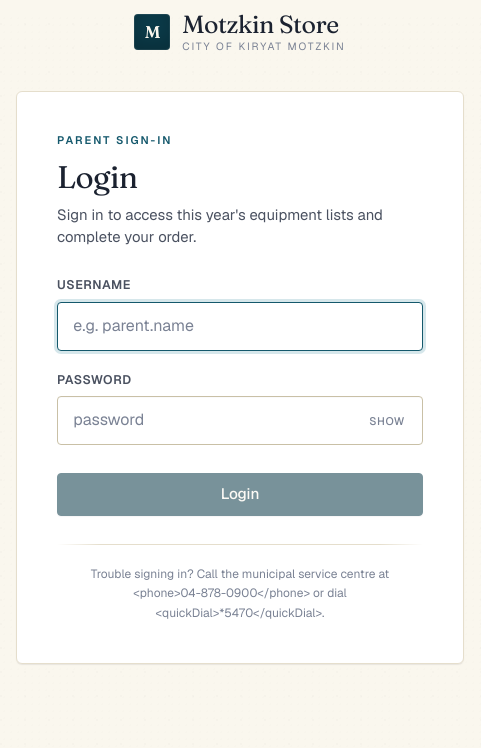
Test: LoginForm › Error Handling › should not redirect on login failure
Type "testuser" into the field labelled "Username" at [240, 326], box [57,302,423,351]
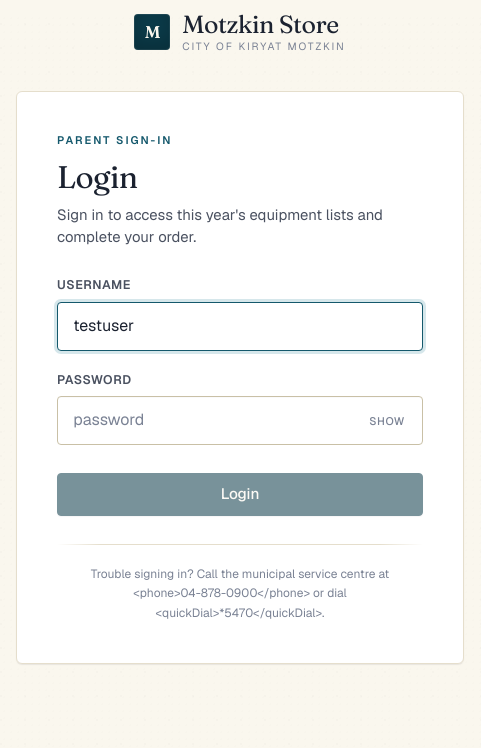
Type "password123" into the password field labelled "Password" at [240, 421], box [57,396,423,445]
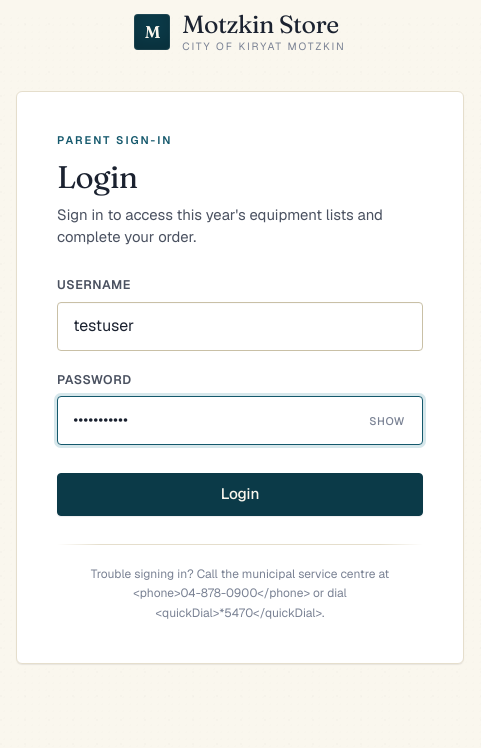
Click the button "Login" at [240, 495], box [57,473,423,516]
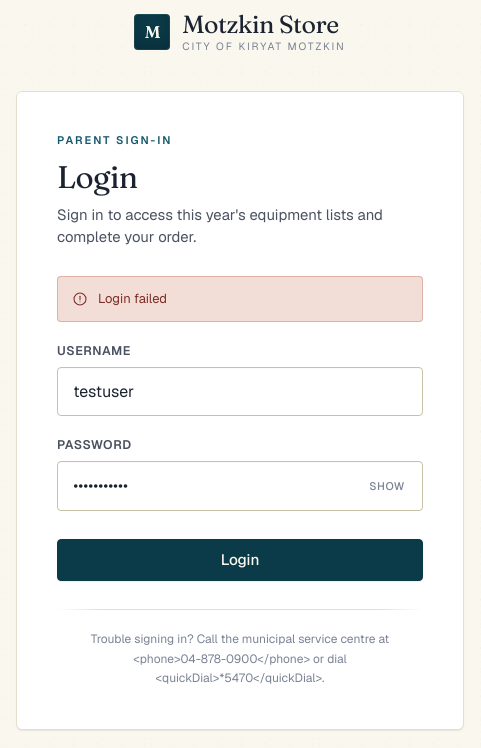
Result: the text "Login failed" is shown at [98,289,167,309]
